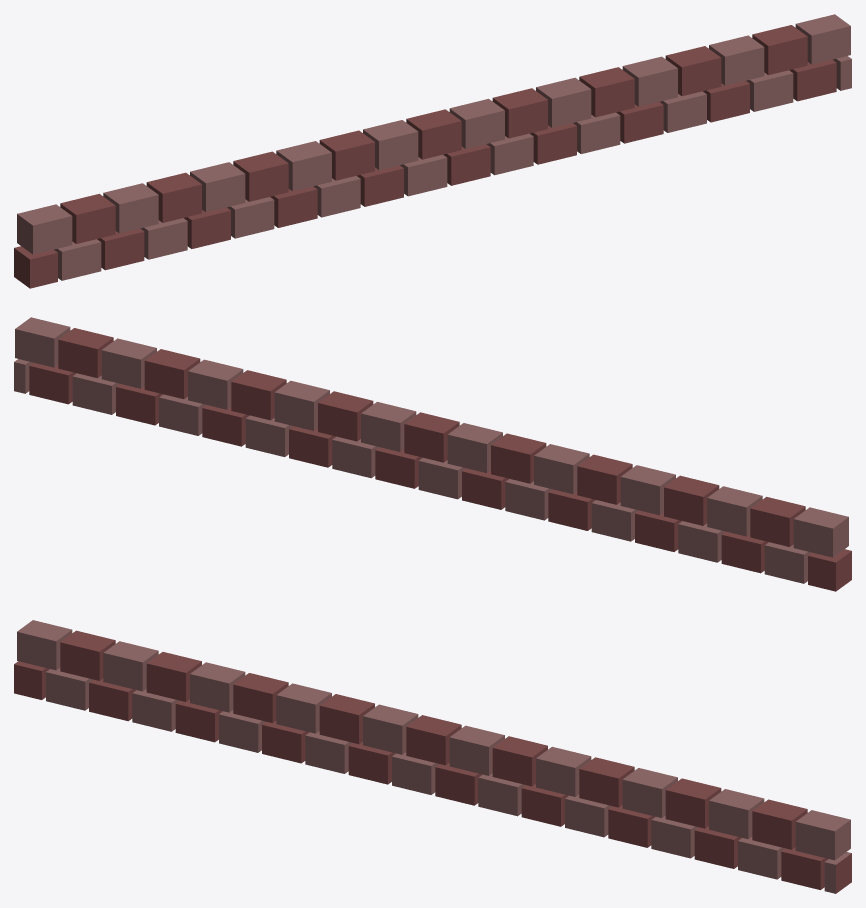
Rendered from Bricks.fbx.
The picture shows the model from 3 angles, top to bottom: view 1: azimuth 30°, elevation 25°; view 2: azimuth 150°, elevation 25°; view 3: azimuth 330°, elevation 25°; orthographic projection.
Visible parts, largest first — view 1: Cube.001; view 2: Cube.001; view 3: Cube.001.
Boxes of the visible parts, x1=… form: Cube.001: x1=14, y1=14, x2=851, y2=288; Cube.001: x1=14, y1=317, x2=851, y2=591; Cube.001: x1=14, y1=620, x2=851, y2=893.
Bounding box in the file's own units: 2227 × 161 × 75.32.
